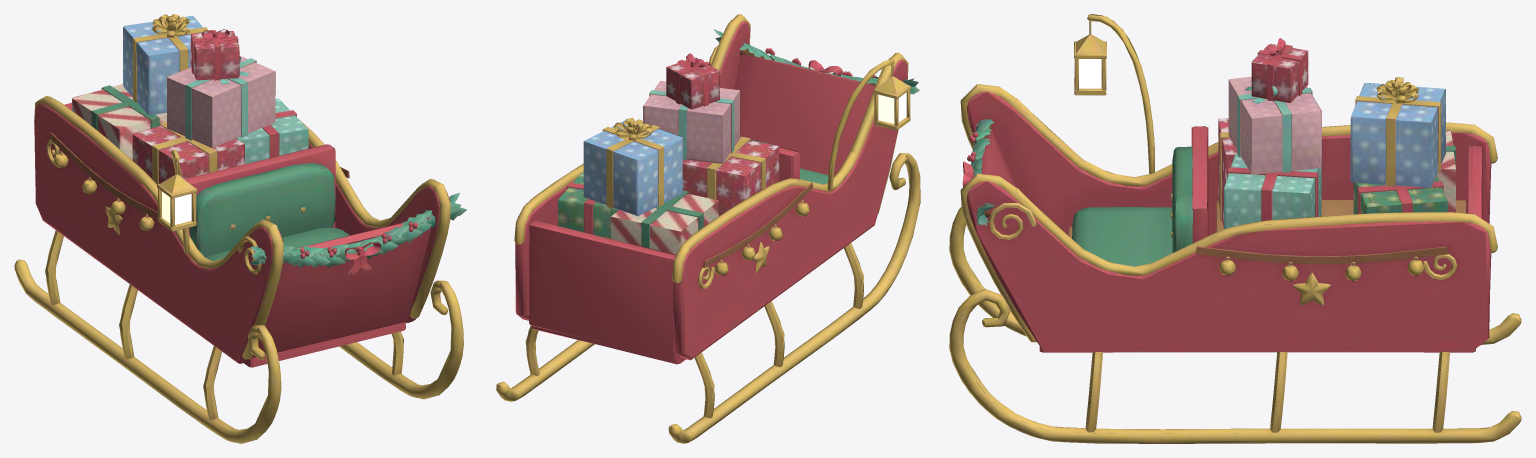
File: trineo.glb
3 renders of one model, left to right at view 1: azimuth 30°, elevation 25°; view 2: azimuth 150°, elevation 25°; view 3: azimuth 270°, elevation 25°, orthographic. The views are drawn at different scales.
Visible parts, largest first — view 1: sleigh_body; view 2: sleigh_body; view 3: sleigh_body.
Part boxes in pixels (left/top/right/bottom): sleigh_body: left=14, top=14, right=466, bottom=443; sleigh_body: left=496, top=14, right=920, bottom=443; sleigh_body: left=949, top=14, right=1521, bottom=443.
Bounding box in the file's own units: 1.3 × 1.56 × 2.32.
2 materials, 1 textured.
